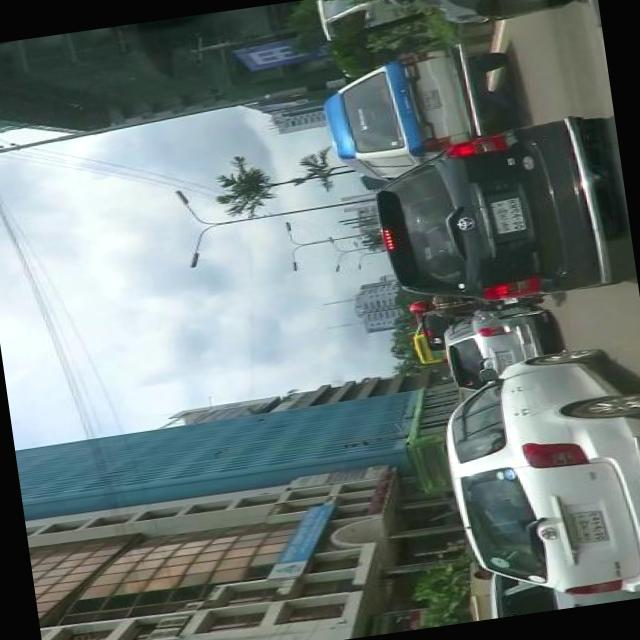bus: (392, 374, 494, 498)
car: (428, 337, 640, 620), (360, 108, 630, 320), (436, 302, 563, 394)
truck: (316, 31, 534, 194)
